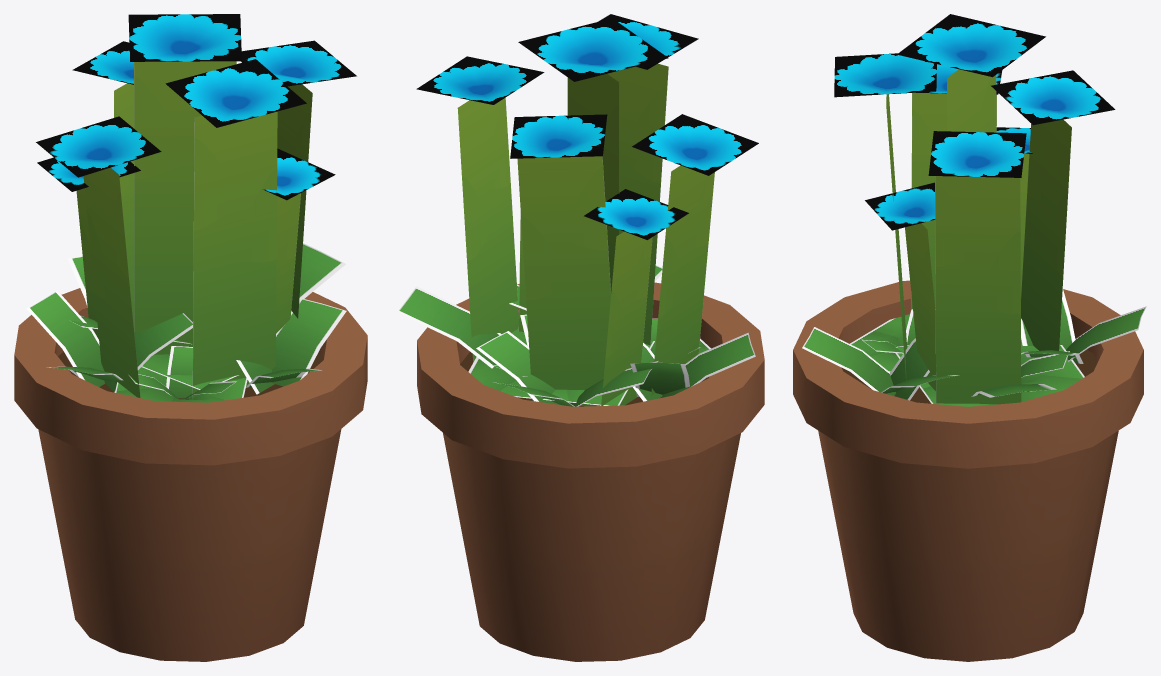
File: FlowerPot_03.glb
The picture shows the model from 3 angles, left to right: view 1: azimuth 30°, elevation 25°; view 2: azimuth 150°, elevation 25°; view 3: azimuth 270°, elevation 25°; orthographic projection.
Visible parts, largest first — view 1: FlowerPot_03_LOD0; view 2: FlowerPot_03_LOD0; view 3: FlowerPot_03_LOD0.
Part boxes in pixels (x1,y1,x2,y2): FlowerPot_03_LOD0: (14, 14, 367, 661); FlowerPot_03_LOD0: (396, 14, 764, 661); FlowerPot_03_LOD0: (793, 14, 1146, 661).
Size of what is drawn, in the model's own units: 0.2328 by 0.3956 by 0.2242.
2 materials, 2 textured.
